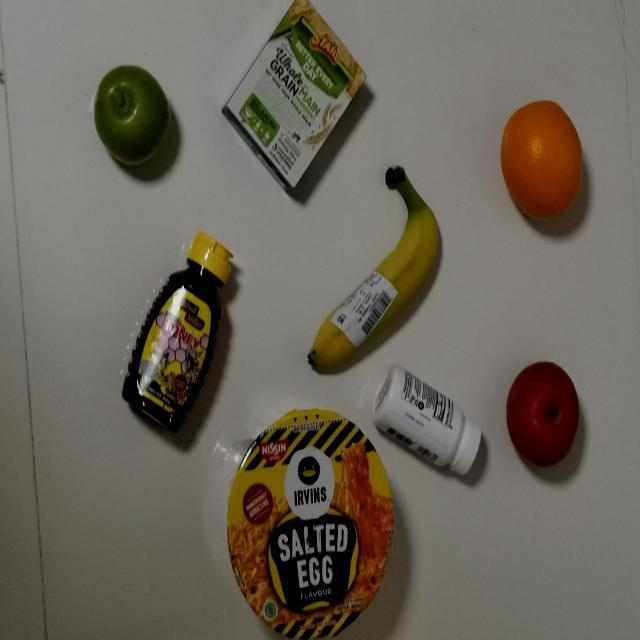apple: (90, 60, 168, 166), (504, 360, 582, 466)
banana: (308, 169, 442, 375)
orange: (498, 98, 588, 230)
